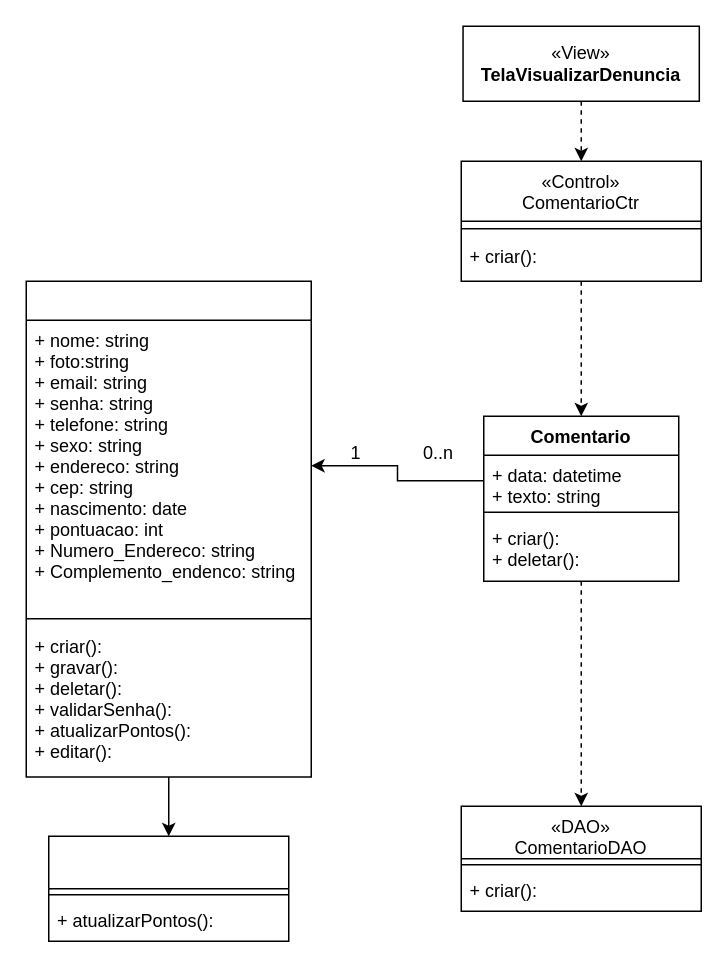
The diagram is 728 pixels wide and 972 high, and some of its shapes have lost their labels. Here are the shapes that lost their labels. From the top down, the box of each, then its label:
(25, 280, 311, 777): Usuario
(47, 835, 289, 941): «DAO» UsuarioDAO
